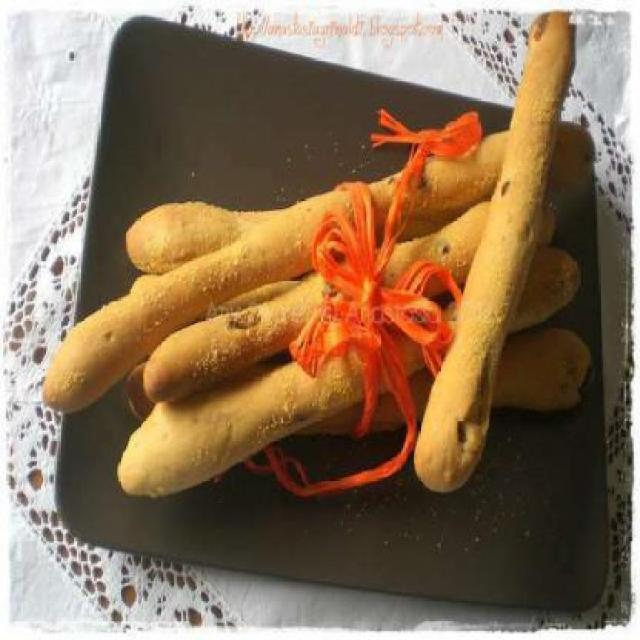Grissini: (422, 16, 582, 501)
